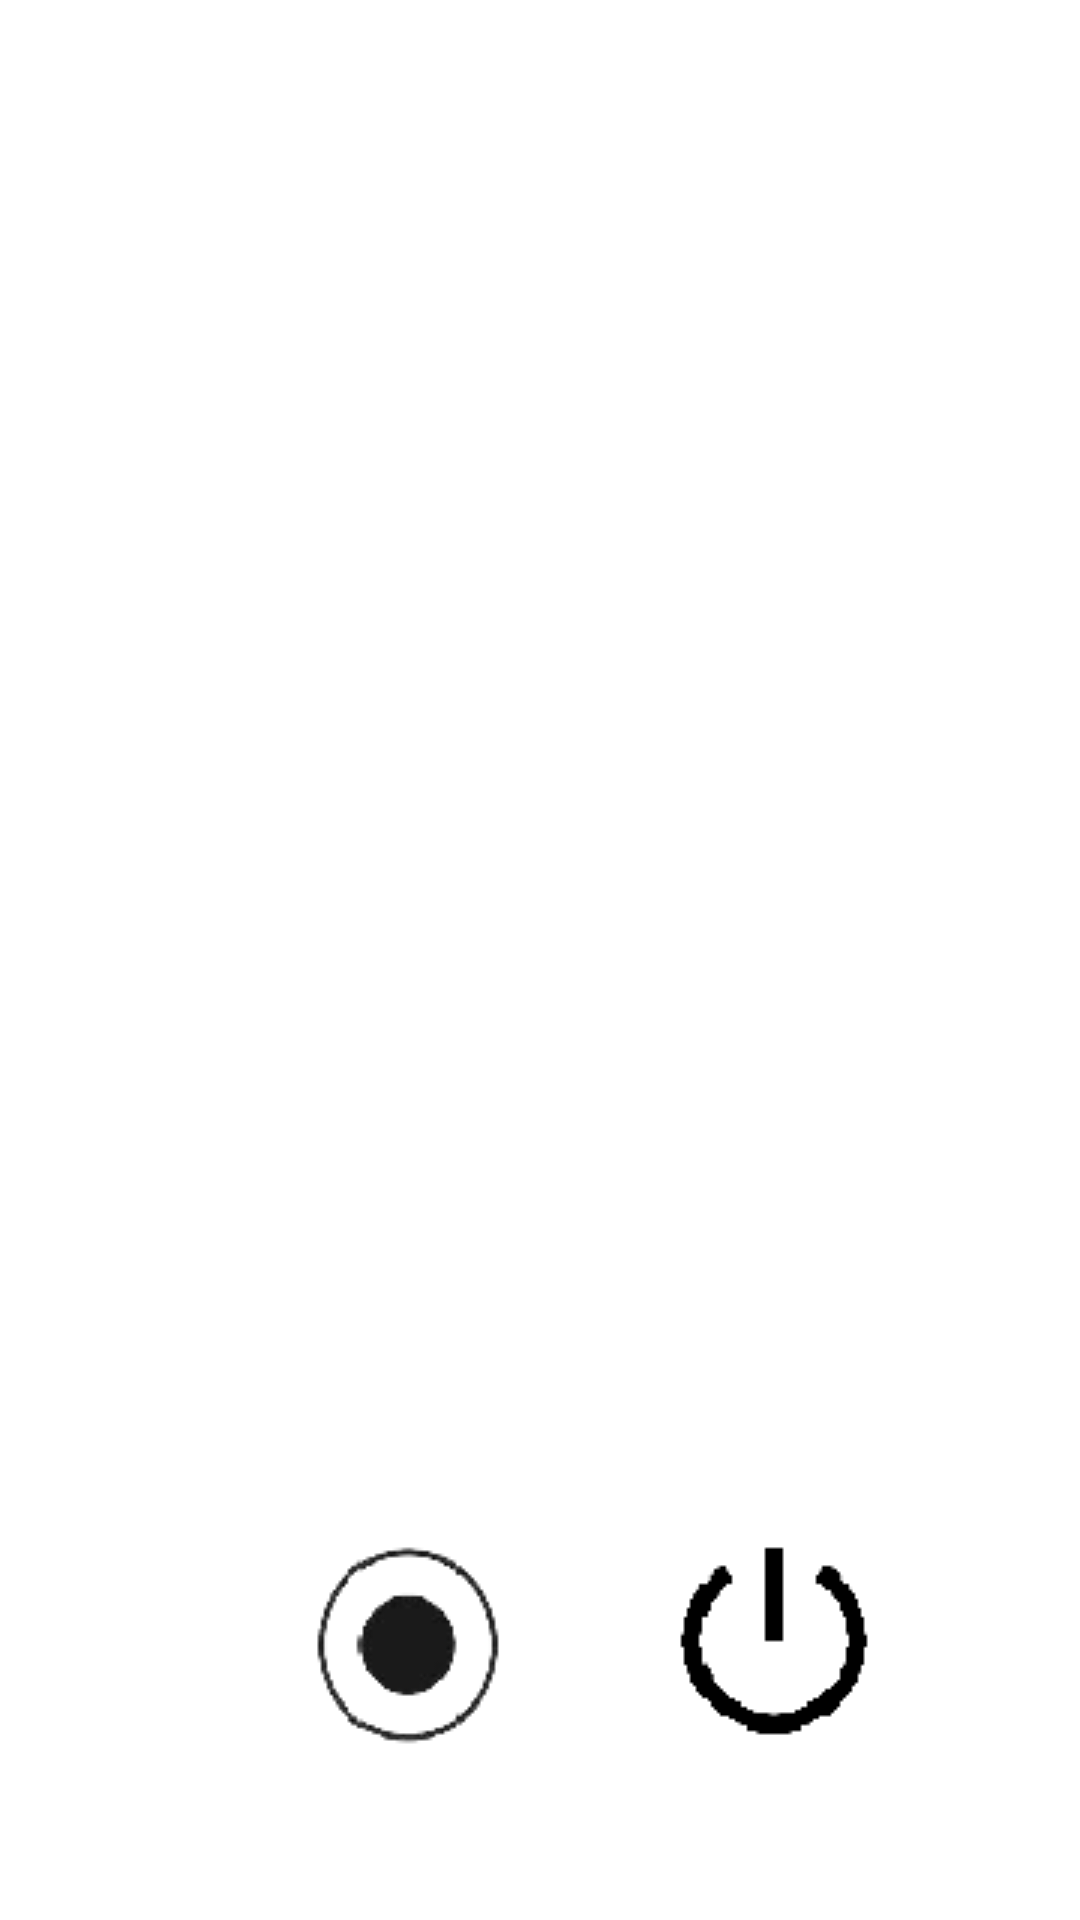

Point at icon controls on the screen. Image size 1080×1920, points as [x,y].
recbtn: [408,1645]
